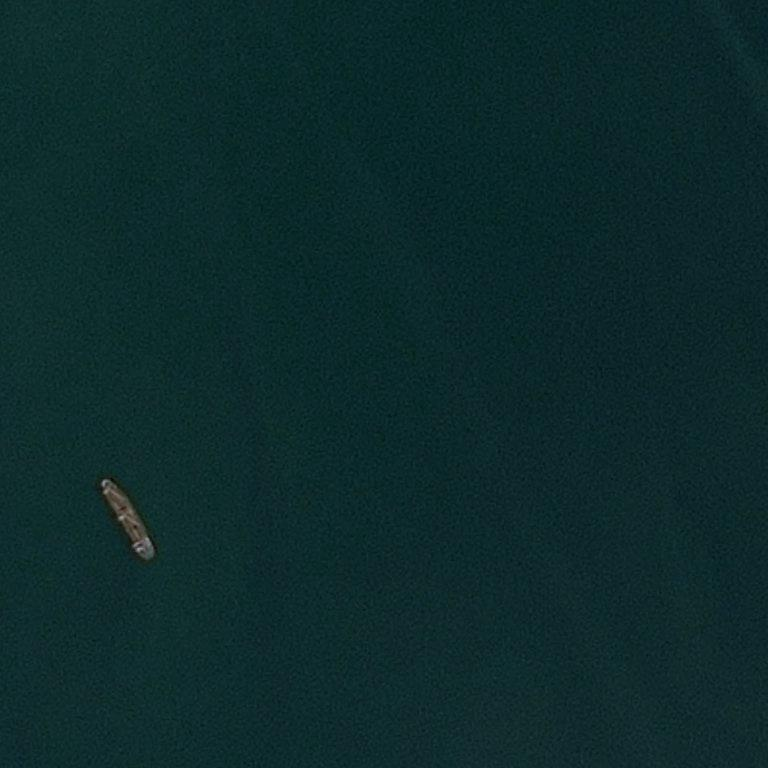ship: (97, 473, 162, 566)
